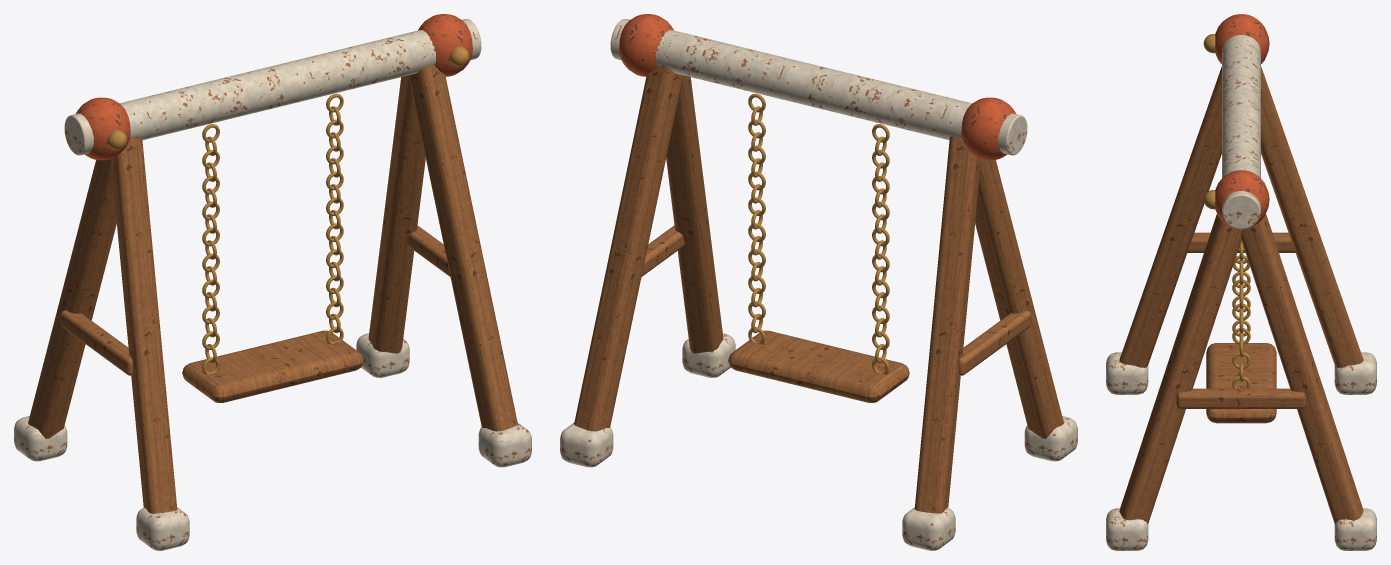
File: C6_秋千_分享包版.glb
3 views of the same model, side by side, from view 1: azimuth 30°, elevation 25°; view 2: azimuth 150°, elevation 25°; view 3: azimuth 270°, elevation 25° (orthographic). The views are drawn at different scales.
Visible parts, largest first — view 1: Ivory crossbar, Splayed timber leg.002, Splayed timber leg, Splayed timber leg.001, Splayed timber leg.003, Rounded oak swing seat, Coral joint, Coral joint.001, Side brace, Ivory leg foot, Ivory leg foot.002, Ivory leg foot.001 (+2 smaller); view 2: Ivory crossbar, Splayed timber leg.003, Splayed timber leg.001, Splayed timber leg, Splayed timber leg.002, Rounded oak swing seat, Coral joint, Coral joint.001, Side brace, Ivory leg foot.001, Ivory leg foot.003, Ivory leg foot (+2 smaller); view 3: Splayed timber leg.002, Splayed timber leg.003, Splayed timber leg.001, Splayed timber leg, Ivory crossbar, Rounded oak swing seat, Side brace.001, Coral joint.001, Ivory leg foot.002, Ivory leg foot.003, Ivory leg foot, Ivory leg foot.001 (+2 smaller).
Boxes of the visible parts, <box> form: Ivory crossbar: <box>64,19,481,155</box>; Splayed timber leg.002: <box>409,65,517,431</box>; Splayed timber leg: <box>111,136,177,513</box>; Splayed timber leg.001: <box>28,159,116,438</box>; Splayed timber leg.003: <box>368,75,425,353</box>; Rounded oak swing seat: <box>182,330,363,402</box>; Coral joint: <box>76,97,130,160</box>; Coral joint.001: <box>418,14,472,76</box>; Side brace: <box>60,310,132,375</box>; Ivory leg foot: <box>136,507,189,550</box>; Ivory leg foot.002: <box>478,422,531,467</box>; Ivory leg foot.001: <box>14,416,67,461</box>; Ivory crossbar: <box>610,19,1027,155</box>; Splayed timber leg.003: <box>574,65,682,431</box>; Splayed timber leg.001: <box>914,136,980,513</box>; Splayed timber leg: <box>975,159,1063,438</box>; Splayed timber leg.002: <box>666,75,723,353</box>; Rounded oak swing seat: <box>728,330,909,402</box>; Coral joint: <box>961,97,1015,160</box>; Coral joint.001: <box>619,14,673,76</box>; Side brace: <box>959,310,1031,375</box>; Ivory leg foot.001: <box>902,507,955,550</box>; Ivory leg foot.003: <box>560,422,613,467</box>; Ivory leg foot: <box>1024,416,1077,461</box>; Splayed timber leg.002: <box>1119,214,1241,524</box>; Splayed timber leg.003: <box>1241,214,1363,524</box>; Splayed timber leg.001: <box>1261,66,1363,367</box>; Splayed timber leg: <box>1119,66,1221,367</box>; Ivory crossbar: <box>1222,14,1260,229</box>; Rounded oak swing seat: <box>1206,343,1276,423</box>; Side brace.001: <box>1176,388,1306,408</box>; Coral joint.001: <box>1215,170,1269,228</box>; Ivory leg foot.002: <box>1106,508,1148,550</box>; Ivory leg foot.003: <box>1334,508,1376,550</box>; Ivory leg foot: <box>1106,352,1148,394</box>; Ivory leg foot.001: <box>1334,352,1376,394</box>.
Size of the model in its own units: 2.44 by 2.34 by 1.54.
4 materials, 4 textured.
